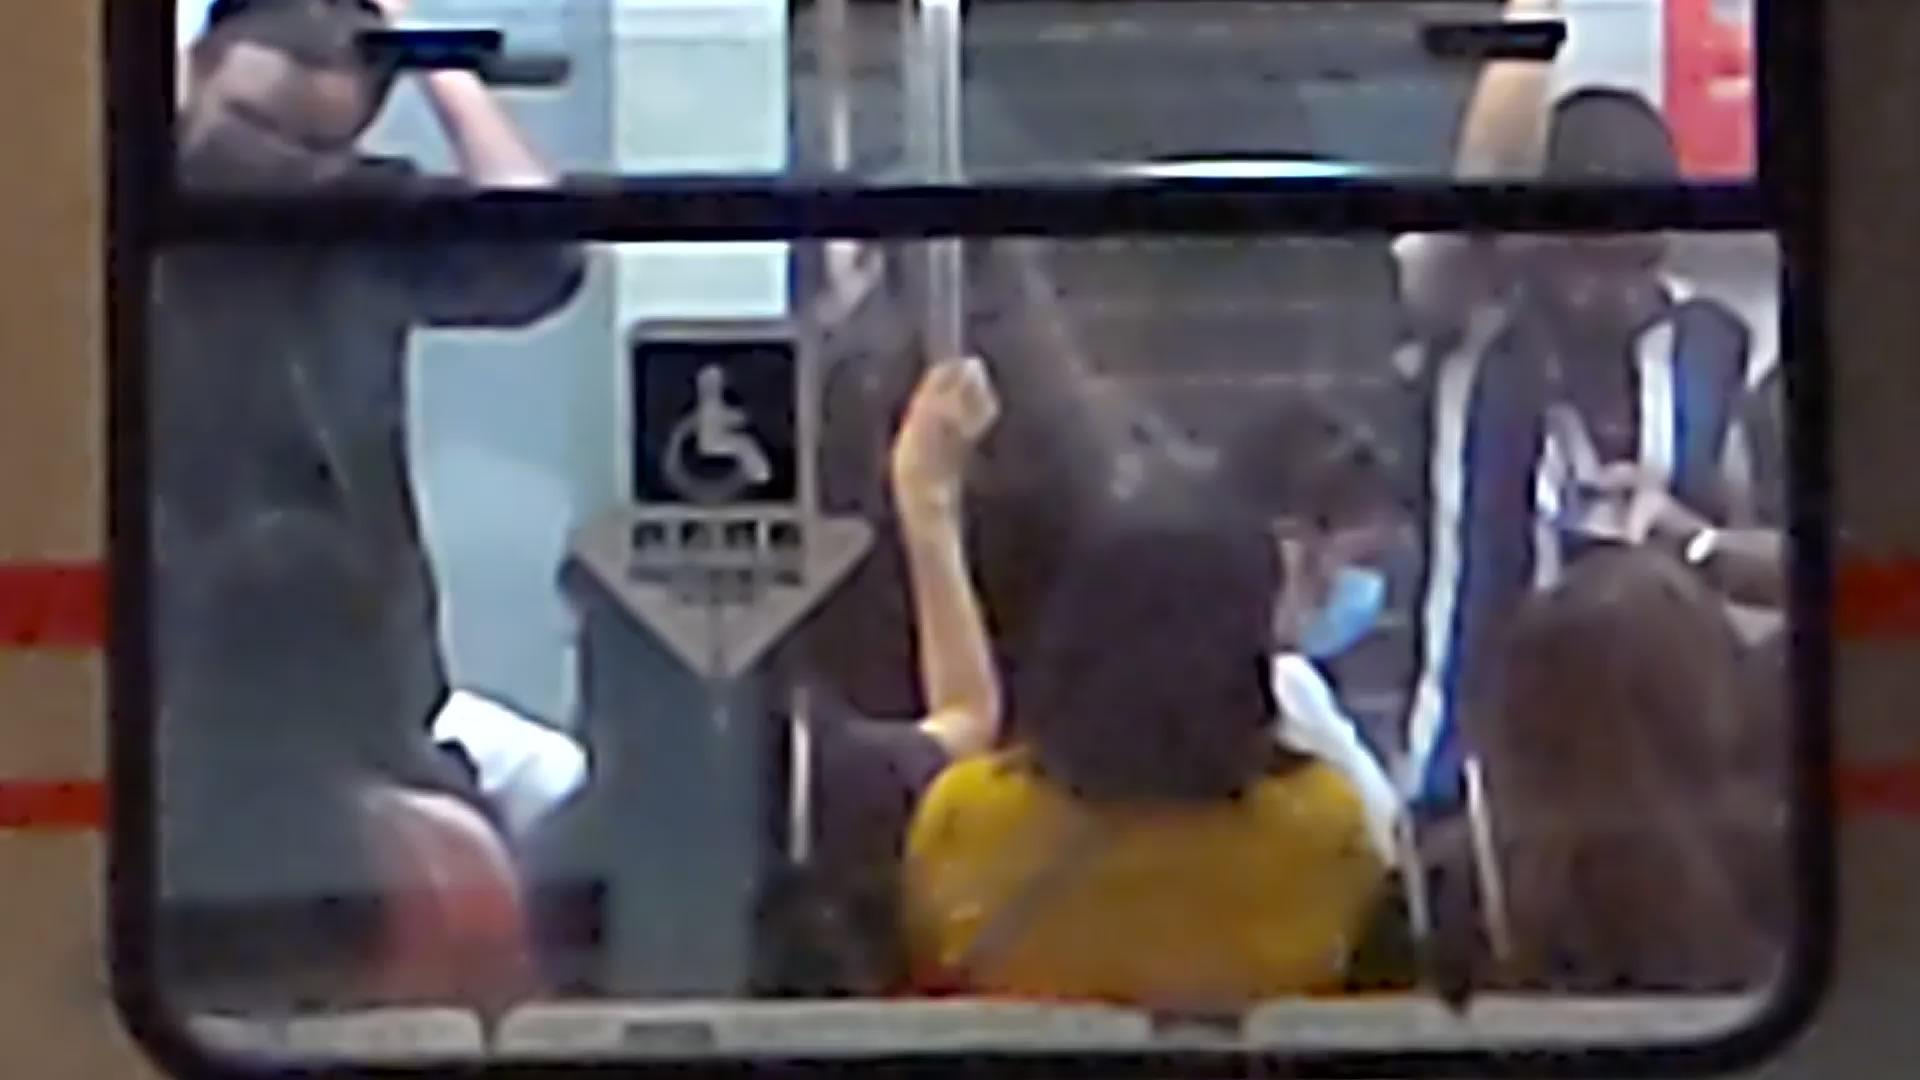handicapped symbol: (661, 360, 774, 512)
